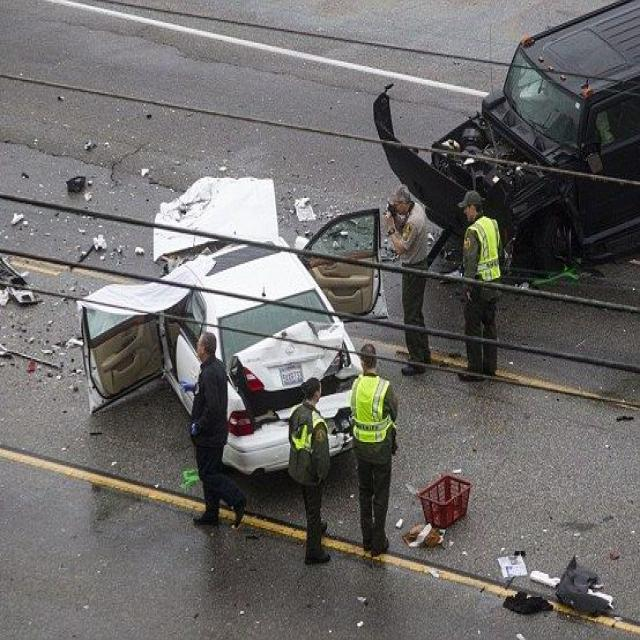traffic_incident: (94, 163, 426, 488), (417, 2, 638, 299)
